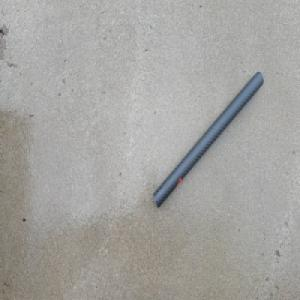LuggagePart: (153, 68, 263, 208)
